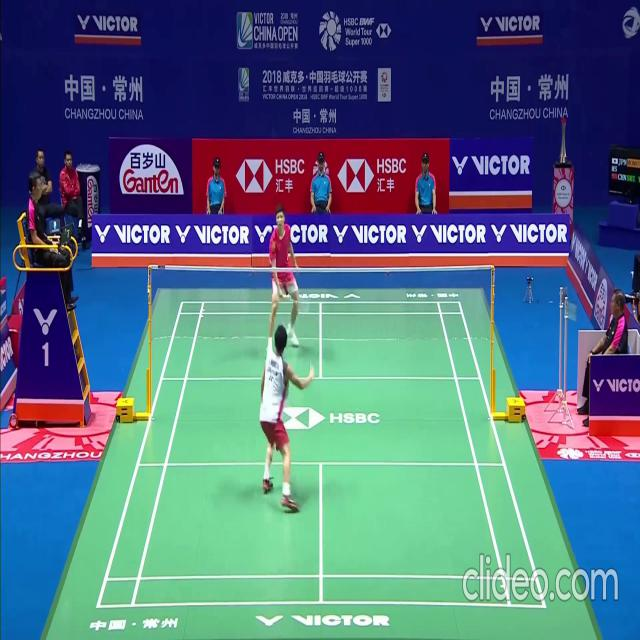Shuttlecock: (268, 226, 272, 233)
